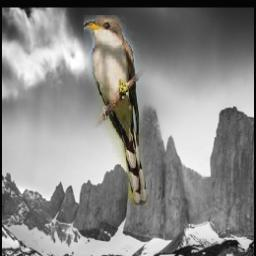Cuckoo: (83, 15, 149, 206)
